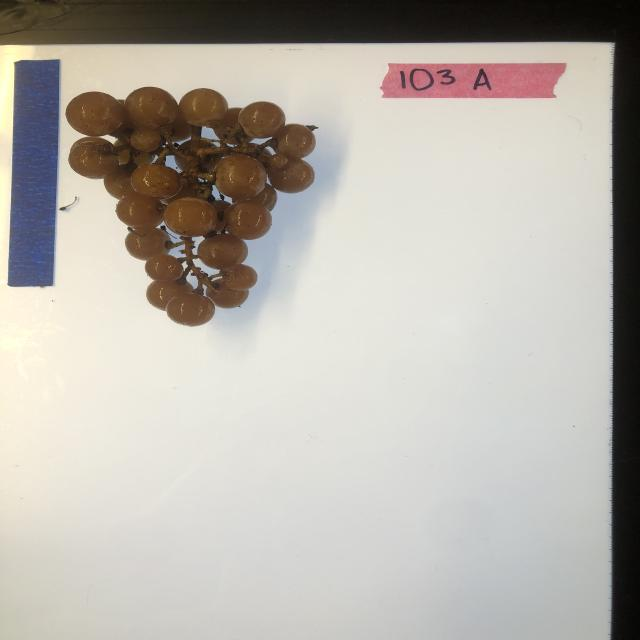grape_cluster: (66, 85, 321, 328)
index: (382, 61, 568, 99)
measure_label: (10, 58, 57, 286)
